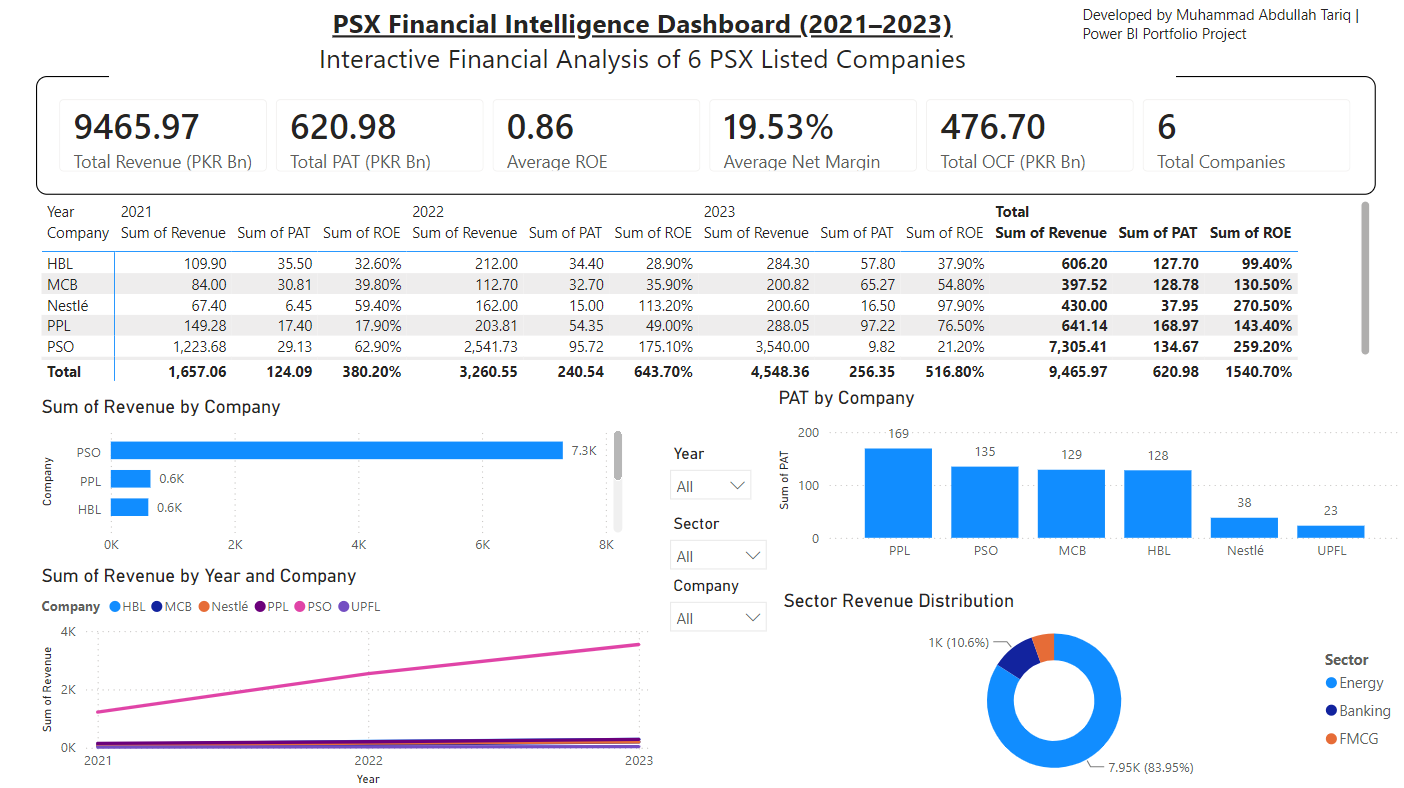

The dashboard page shown, as its layout file describes it:
{"tool":"powerbi","page":{"name":"Executive Dashboard","canvas":[1280,720],"ordinal":0},"visuals":[{"type":"cardVisual","fields":{"Data":["FactFinancials.Total Revenue","FactFinancials.Total PAT","FactFinancials.Average ROE","FactFinancials.Average Net Margin","FactFinancials.Total OCF","FactFinancials.Total Companies"]},"box":[34,70,1218,108],"z":0},{"type":"clusteredBarChart","fields":{"Category":["FactFinancials.Company"],"Y":["Sum(FactFinancials.Revenue)"]},"box":[34,360,538,154],"z":1000},{"type":"clusteredColumnChart","title":"PAT by Company","fields":{"Category":["FactFinancials.Company"],"Y":["Sum(FactFinancials.PAT)"]},"box":[704,352,576,168],"z":2000},{"type":"lineChart","fields":{"Y":["Sum(FactFinancials.Revenue)"],"Category":["FactFinancials.Year"],"Series":["FactFinancials.Company"]},"box":[34,514,566,206],"z":3000},{"type":"donutChart","title":"Sector Revenue Distribution","fields":{"Category":["FactFinancials.Sector"],"Y":["Sum(FactFinancials.Revenue)"]},"box":[708,536,572,184],"z":4000},{"type":"slicer","fields":{"Values":["FactFinancials.Year"]},"box":[600,400,94,72],"z":5000},{"type":"slicer","fields":{"Values":["FactFinancials.Sector"]},"box":[600,464,108,72],"z":6000},{"type":"slicer","fields":{"Values":["FactFinancials.Company"]},"box":[600,520,108,72],"z":7000},{"type":"textbox","box":[100,0,970,84],"z":8000},{"type":"pivotTable","fields":{"Rows":["FactFinancials.Company"],"Columns":["FactFinancials.Year"],"Values":["Sum(FactFinancials.Revenue)","Sum(FactFinancials.PAT)","Sum(FactFinancials.ROE)"]},"box":[34,178,1218,174],"z":9000},{"type":"textbox","box":[979.7,0,300,45.3],"z":10000}]}

Visuals, with their boxes in screenshot pixels (x1, y1, x2, y2), scaled from the page's 1280x720 canvas onto the 1404x788 screenshot:
cardVisual - FactFinancials.Total Revenue x FactFinancials.Total PAT: x1=37 y1=77 x2=1373 y2=195
clusteredBarChart - FactFinancials.Company x Sum(FactFinancials.Revenue): x1=37 y1=394 x2=627 y2=563
"PAT by Company" clusteredColumnChart: x1=772 y1=385 x2=1403 y2=569
lineChart - Sum(FactFinancials.Revenue) x FactFinancials.Year: x1=37 y1=563 x2=658 y2=787
"Sector Revenue Distribution" donutChart: x1=777 y1=587 x2=1403 y2=787
slicer - FactFinancials.Year: x1=658 y1=438 x2=761 y2=517
slicer - FactFinancials.Sector: x1=658 y1=508 x2=777 y2=587
slicer - FactFinancials.Company: x1=658 y1=569 x2=777 y2=648
textbox: x1=110 y1=0 x2=1174 y2=92
pivotTable - FactFinancials.Company x FactFinancials.Year: x1=37 y1=195 x2=1373 y2=385
textbox: x1=1075 y1=0 x2=1403 y2=50
